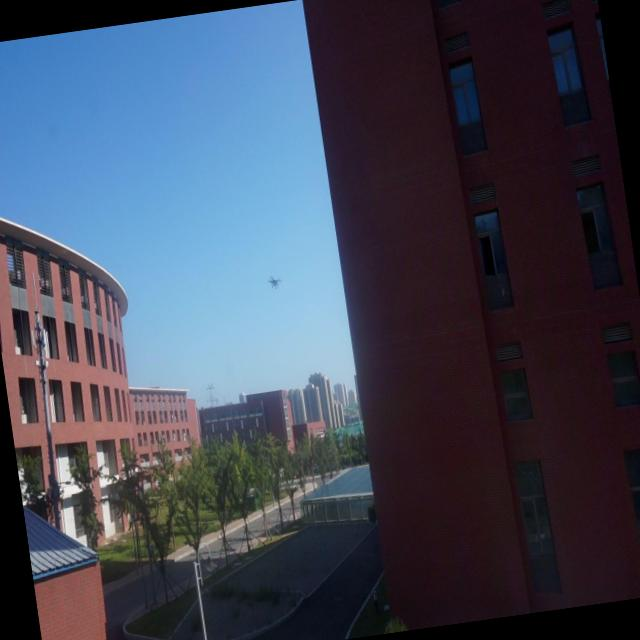drone: (264, 268, 286, 294)
